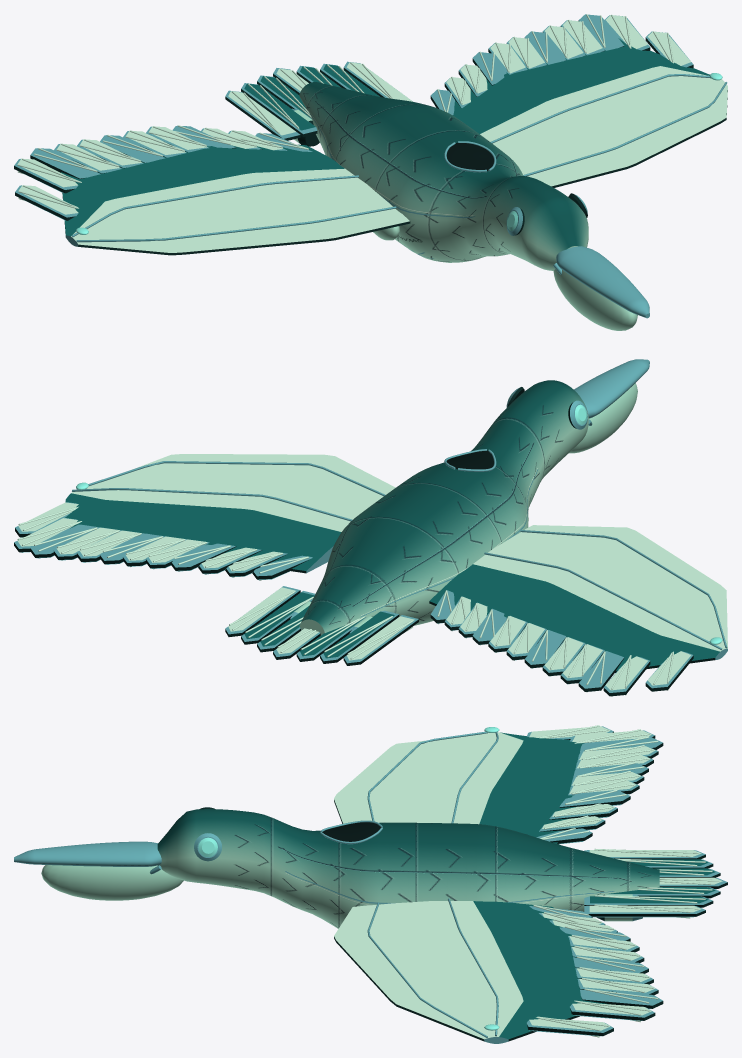
3 views of the same model, one above another, from view 1: azimuth 30°, elevation 25°; view 2: azimuth 150°, elevation 25°; view 3: azimuth 270°, elevation 25° (orthographic). The views are drawn at different scales.
Visible parts, largest first — view 1: pelican_hull; view 2: pelican_hull; view 3: pelican_hull.
Part boxes in pixels (x1=…): pelican_hull: x1=14, y1=14, x2=727, y2=330; pelican_hull: x1=14, y1=359, x2=727, y2=696; pelican_hull: x1=14, y1=725, x2=727, y2=1043.
Bounding box in the file's own units: 256 × 48.55 × 252.
1 material, 1 textured.
